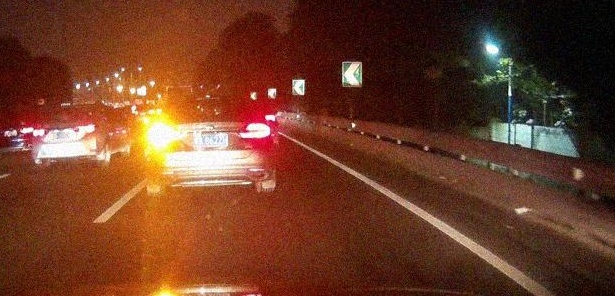L_light: (151, 125, 179, 141), (33, 129, 46, 137)
R_light: (238, 122, 271, 137), (79, 125, 96, 133)
T_light: (199, 97, 218, 103), (68, 107, 81, 111)
night-left: (147, 94, 275, 193)
night-no: (32, 104, 98, 169)
